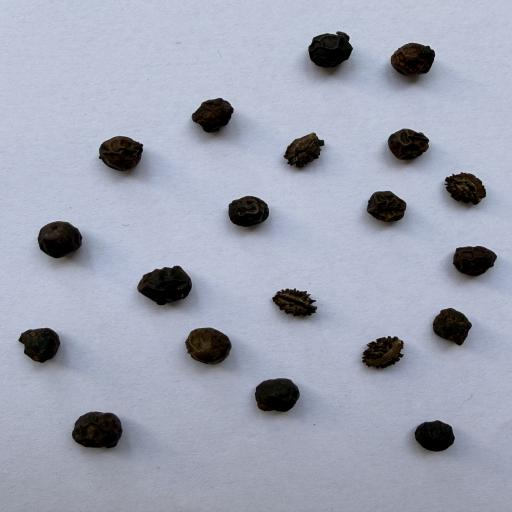Black_pepper: (137, 264, 194, 304), (68, 410, 124, 449), (182, 324, 233, 366), (431, 305, 474, 346), (451, 243, 501, 278), (189, 97, 236, 133), (306, 32, 352, 68), (97, 134, 143, 170), (224, 194, 270, 229), (38, 221, 82, 257), (388, 42, 433, 77), (17, 328, 61, 363), (257, 376, 298, 412), (362, 190, 408, 222), (411, 419, 453, 453), (388, 128, 429, 159)
papaya_seed: (249, 278, 337, 328), (346, 332, 426, 382), (264, 126, 340, 172), (434, 168, 492, 212)
